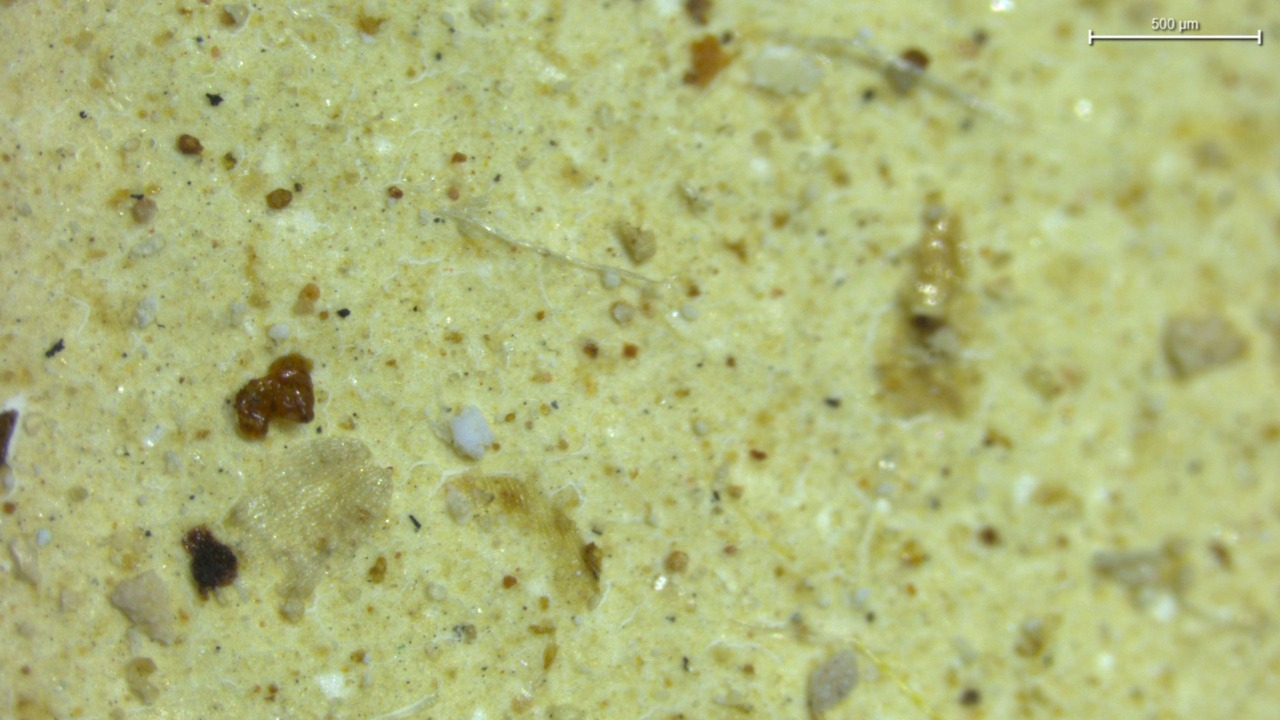microplastic_fragment: (108, 578, 186, 650), (813, 649, 854, 720), (451, 406, 490, 459)
